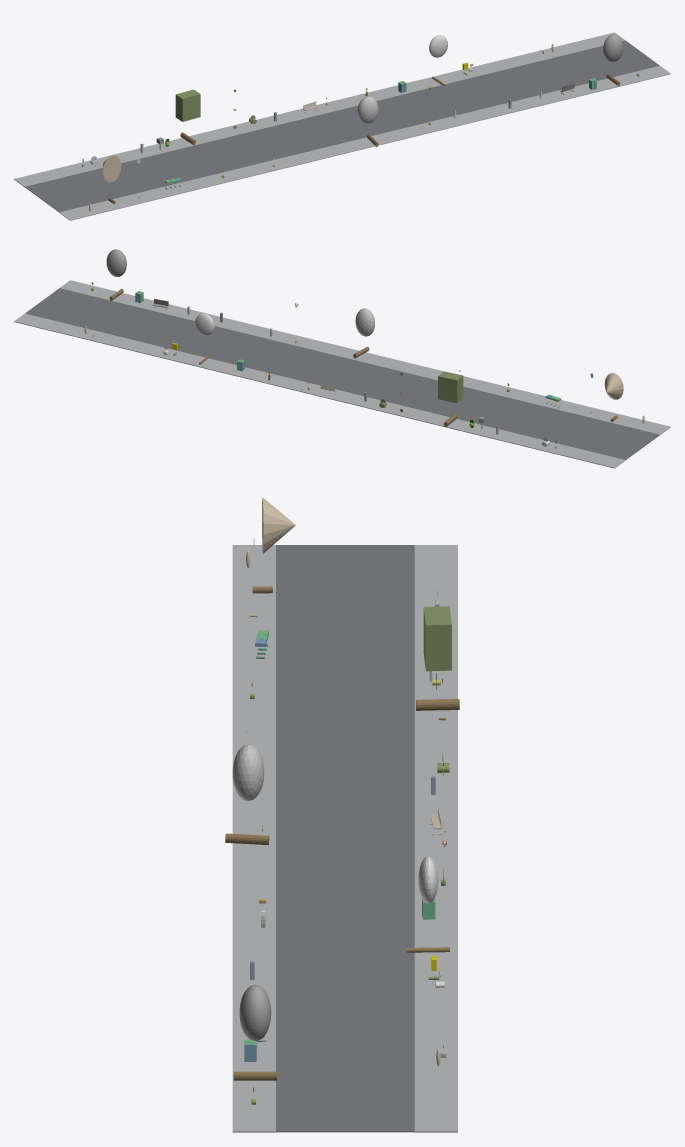
3 views of the same model, one above another, from view 1: azimuth 30°, elevation 25°; view 2: azimuth 150°, elevation 25°; view 3: azimuth 270°, elevation 25° (orthographic). The views are drawn at different scales.
Visible parts, largest first — view 1: road_slab, sidewalk_left, sidewalk_right, inst_0013, inst_0014, inst_0016, inst_0012, inst_0015; view 2: road_slab, sidewalk_right, sidewalk_left, inst_0013, inst_0014, inst_0016, inst_0012, inst_0015; view 3: road_slab, sidewalk_right, sidewalk_left, inst_0013, inst_0014, inst_0016, inst_0012, inst_0015.
Boxes of the visible parts, x1,y1,x2,y2 form: road_slab: (25,40,659,212); sidewalk_left: (59,66,670,220); sidewalk_right: (14,32,624,187); inst_0013: (175,89,200,145); inst_0014: (357,96,378,146); inst_0016: (603,34,623,85); inst_0012: (103,155,121,204); inst_0015: (429,35,447,86); road_slab: (25,288,659,460); sidewalk_right: (14,313,625,468); sidewalk_left: (60,280,670,434); inst_0013: (438,371,463,426); inst_0014: (353,308,374,358); inst_0016: (106,249,126,300); inst_0012: (604,373,623,421); inst_0015: (195,313,214,364); road_slab: (276,545,414,1132); sidewalk_right: (414,545,457,1132); sidewalk_left: (232,545,275,1132); inst_0013: (416,606,459,710); inst_0014: (225,744,269,845); inst_0016: (233,984,276,1080); inst_0012: (252,497,295,593); inst_0015: (406,856,449,952).
Size of the model in its own units: 80 by 6.08 by 13.52.
